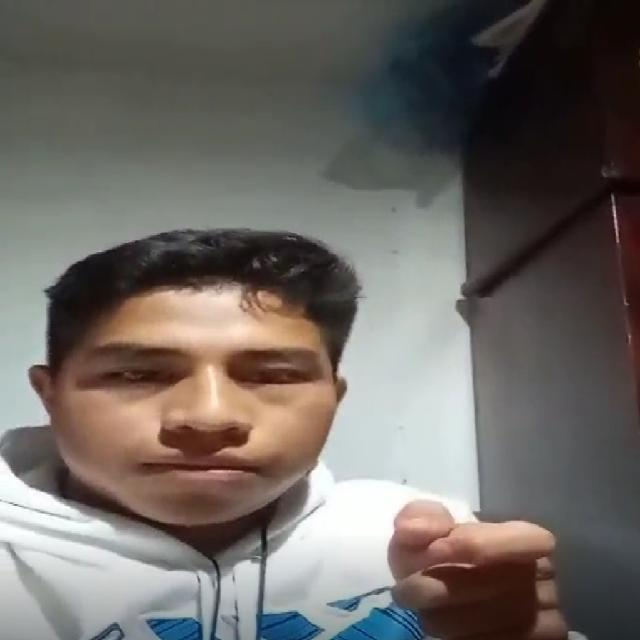X: (371, 462, 582, 640)
